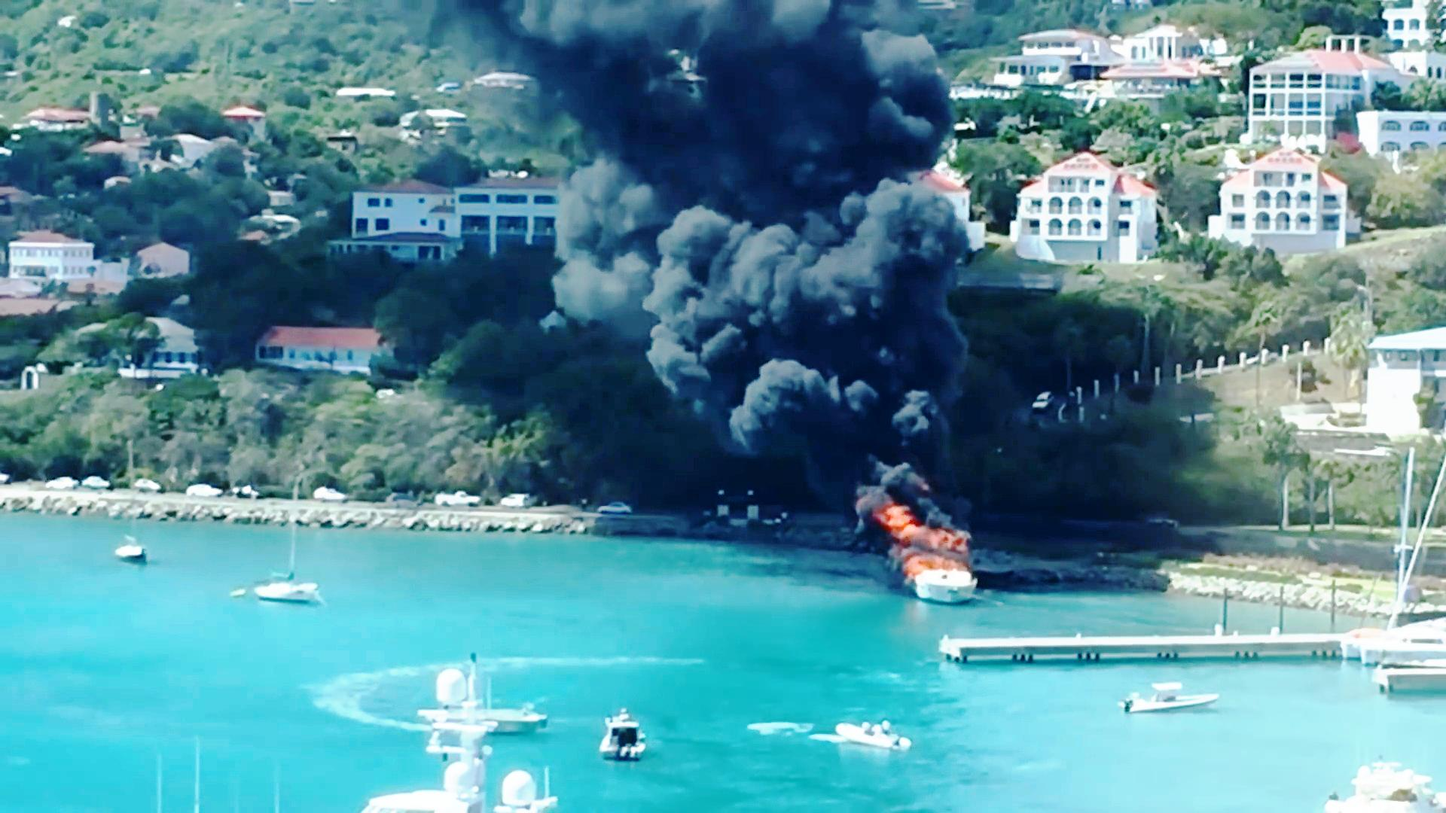smoke: (554, 190, 963, 363), (529, 0, 912, 184), (697, 204, 926, 470)
